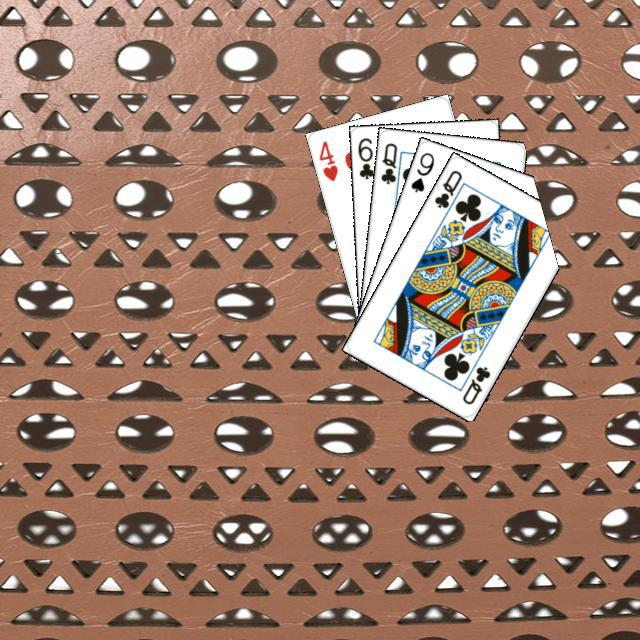4h: (314, 136, 340, 183)
6c: (353, 133, 375, 181)
9s: (406, 148, 436, 194)
Qc: (429, 165, 468, 218), (457, 361, 492, 406), (376, 138, 405, 191)
